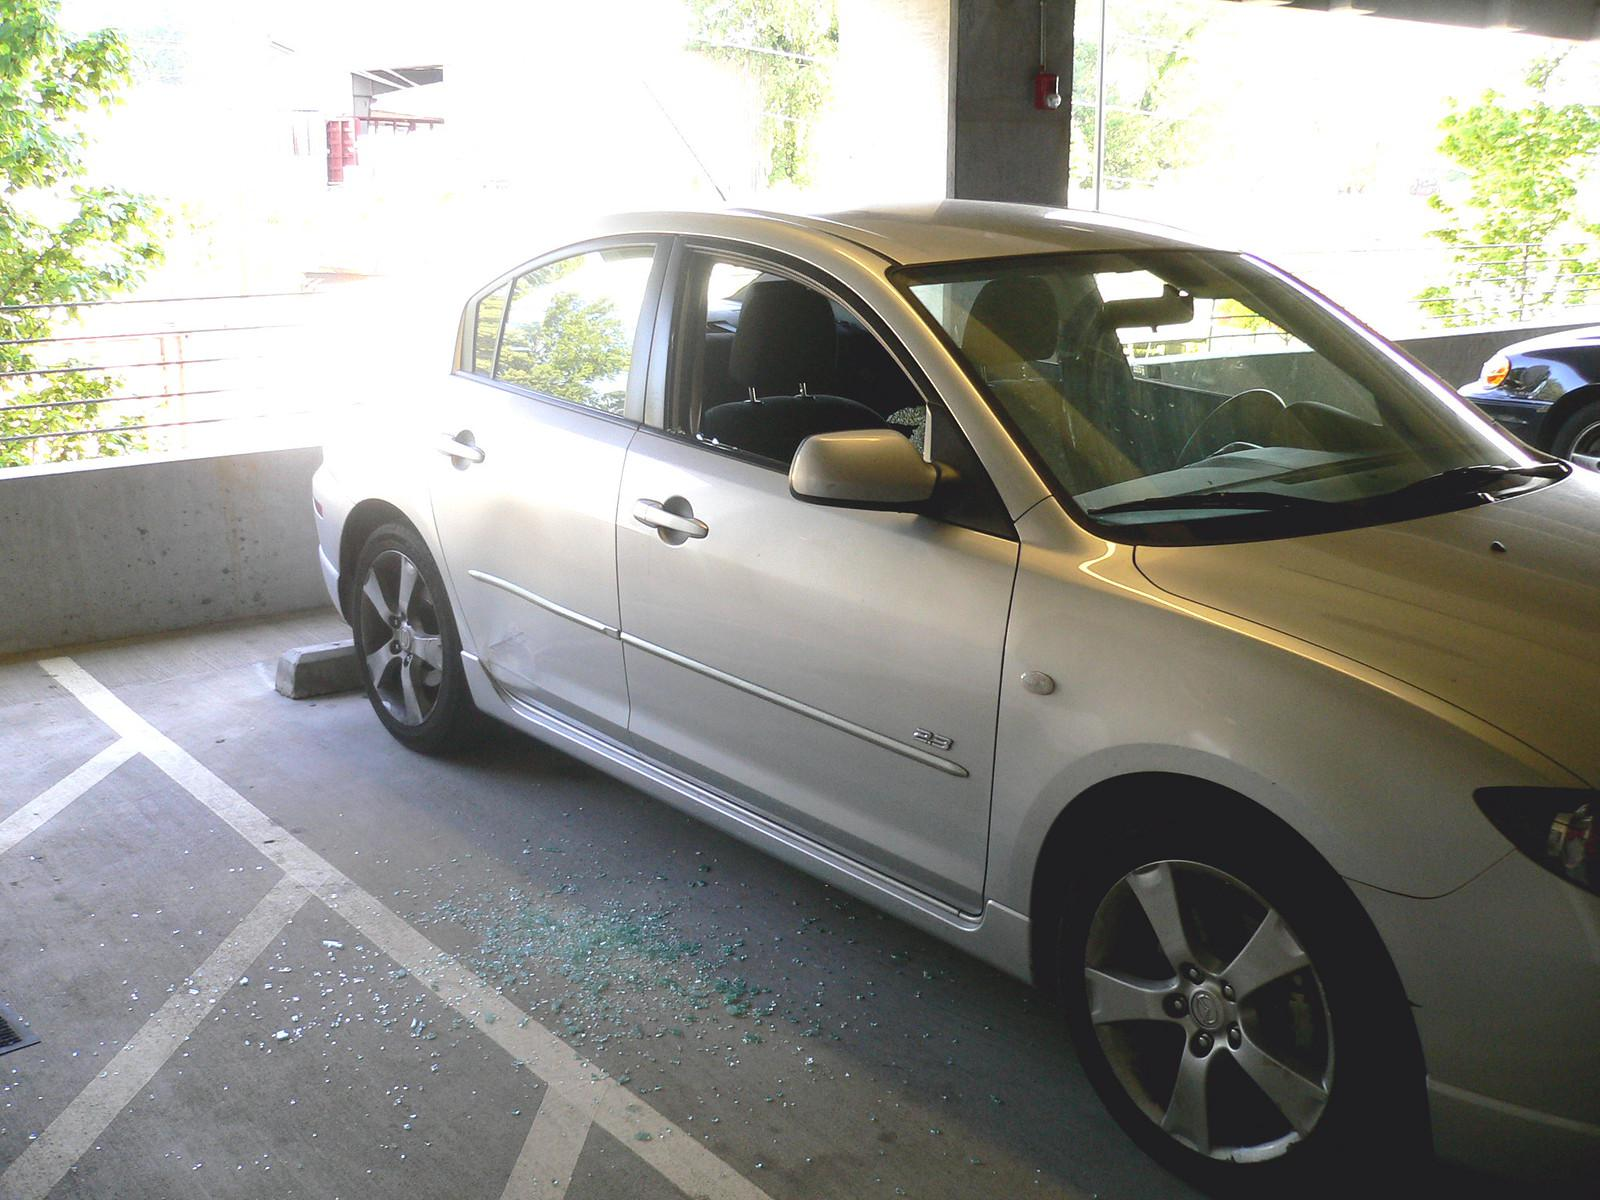doorouter-dent: (438, 280, 627, 753)
